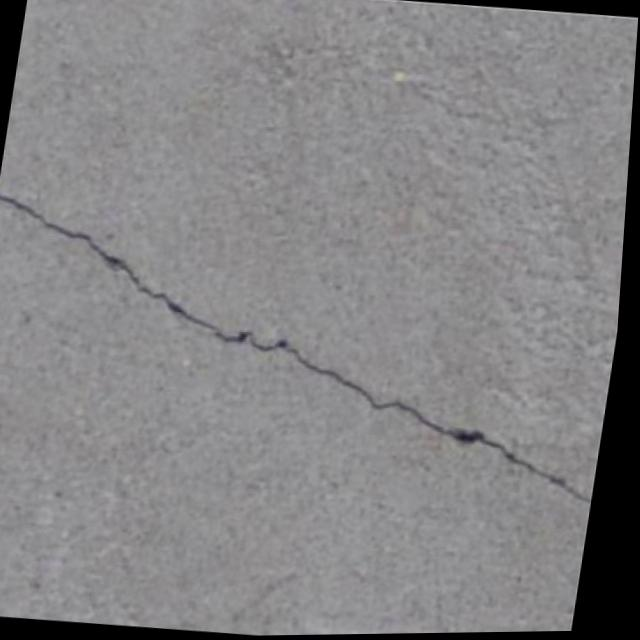Crack: (0, 168, 631, 523)
